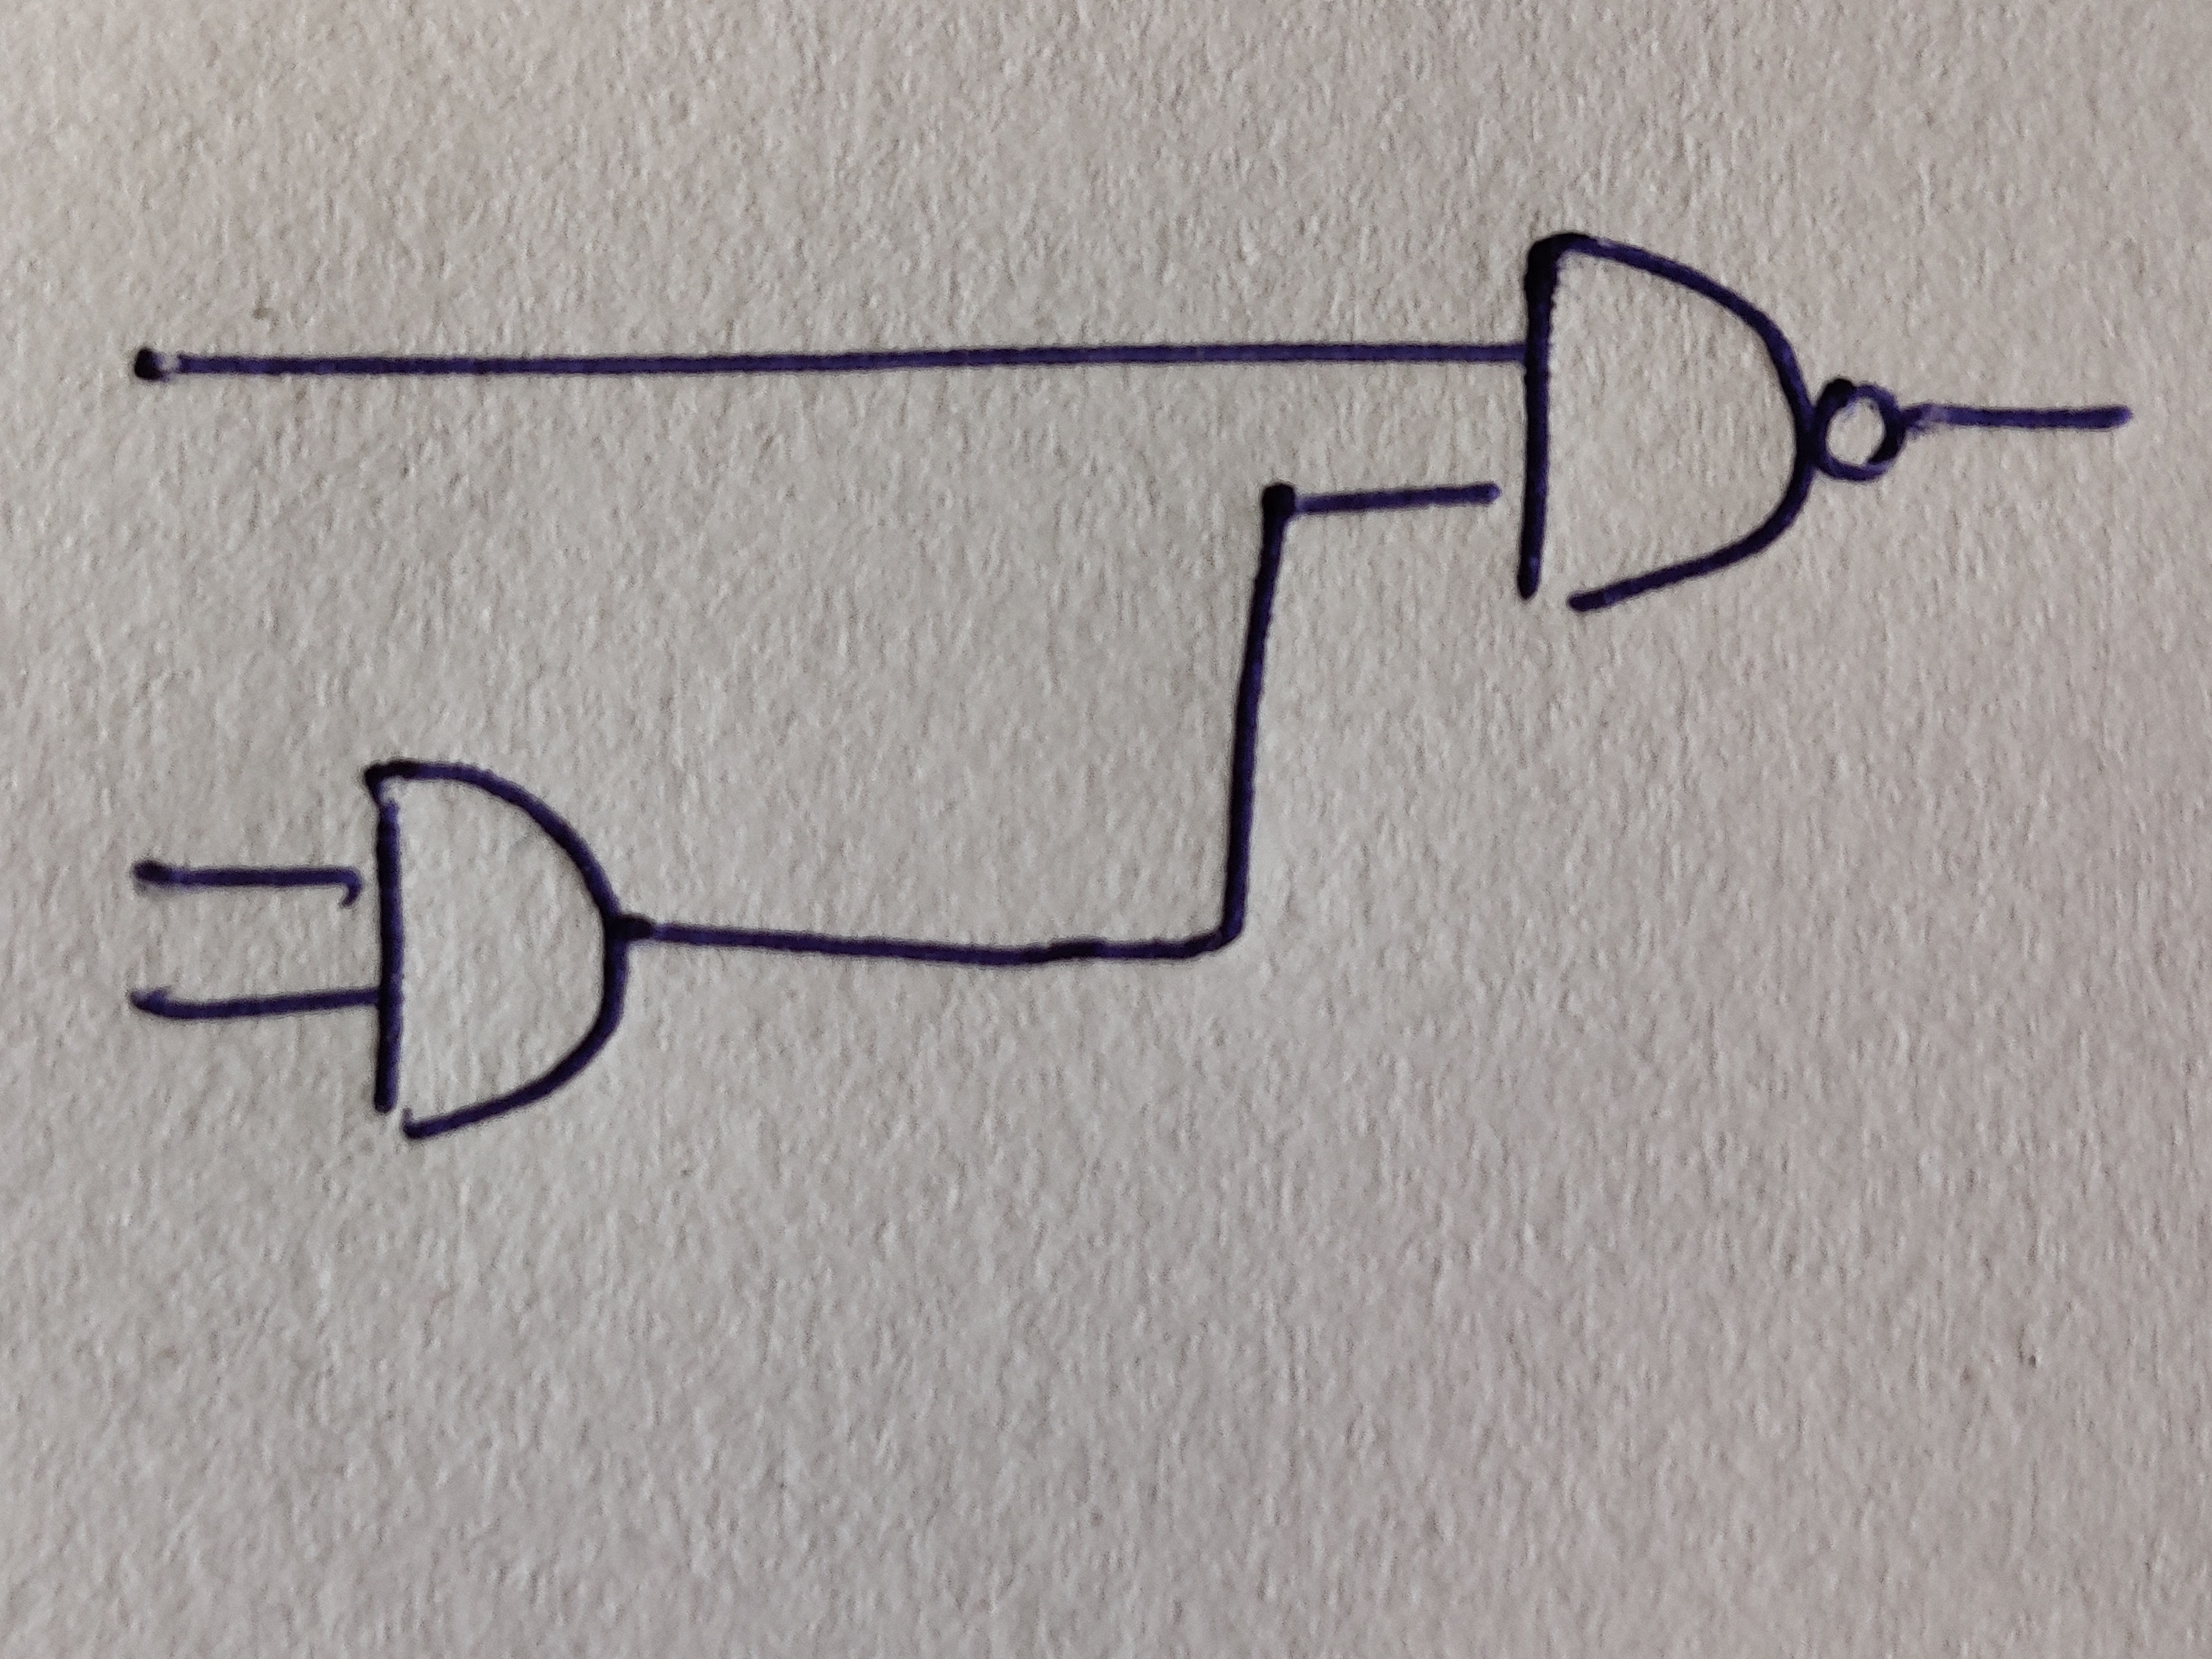and: (1517, 232, 1813, 613), (362, 758, 629, 1141)
not: (1808, 376, 1905, 483)
